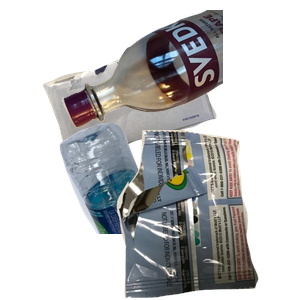glass: (60, 10, 300, 130)
paper: (40, 35, 249, 187)
plastic: (57, 120, 284, 300)
trash: (114, 130, 300, 300)
